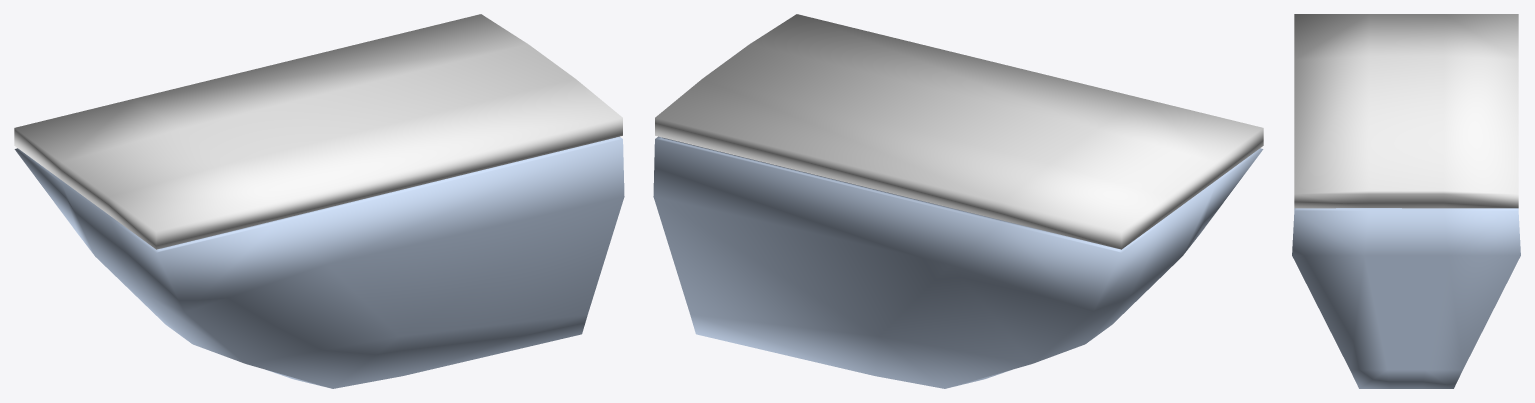
File: toilet.dae
The picture shows the model from 3 angles, left to right: view 1: azimuth 30°, elevation 25°; view 2: azimuth 150°, elevation 25°; view 3: azimuth 270°, elevation 25°; orthographic projection. The views are drawn at different scales.
Visible parts, largest first — view 1: Laufen; view 2: Laufen; view 3: Laufen.
Part boxes in pixels (x1,y1,x2,y2): Laufen: (14,14,624,388); Laufen: (653,14,1263,388); Laufen: (1292,14,1520,388).
Size of the model in its own units: 0.6498 by 0.3492 by 0.3338.
